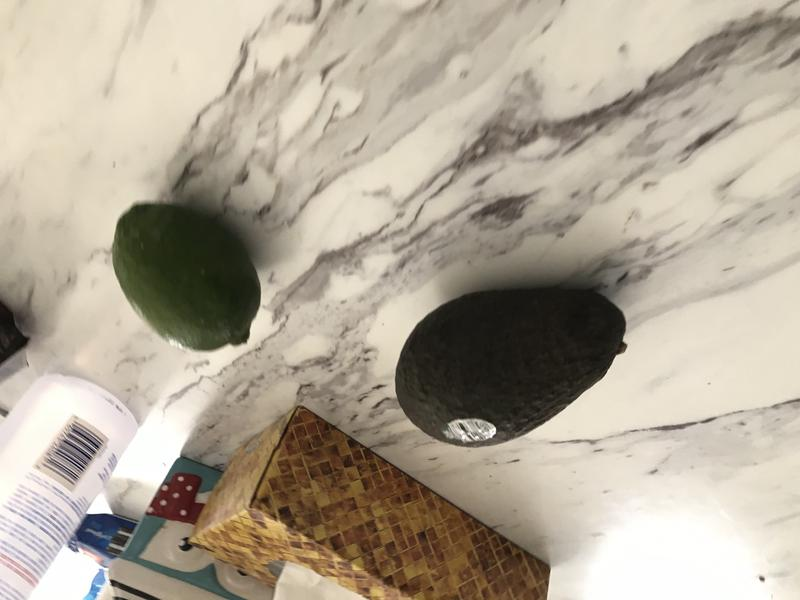avocado: (387, 268, 639, 456)
lime: (104, 195, 268, 366)
